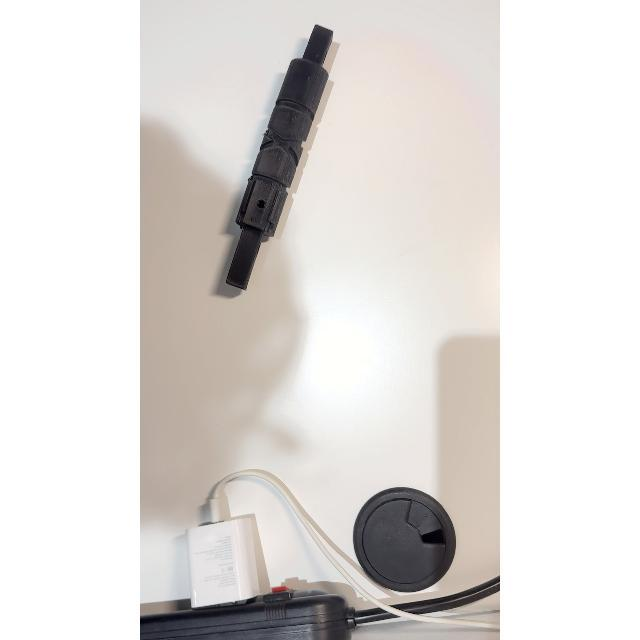Pieza1: (214, 11, 376, 312)
